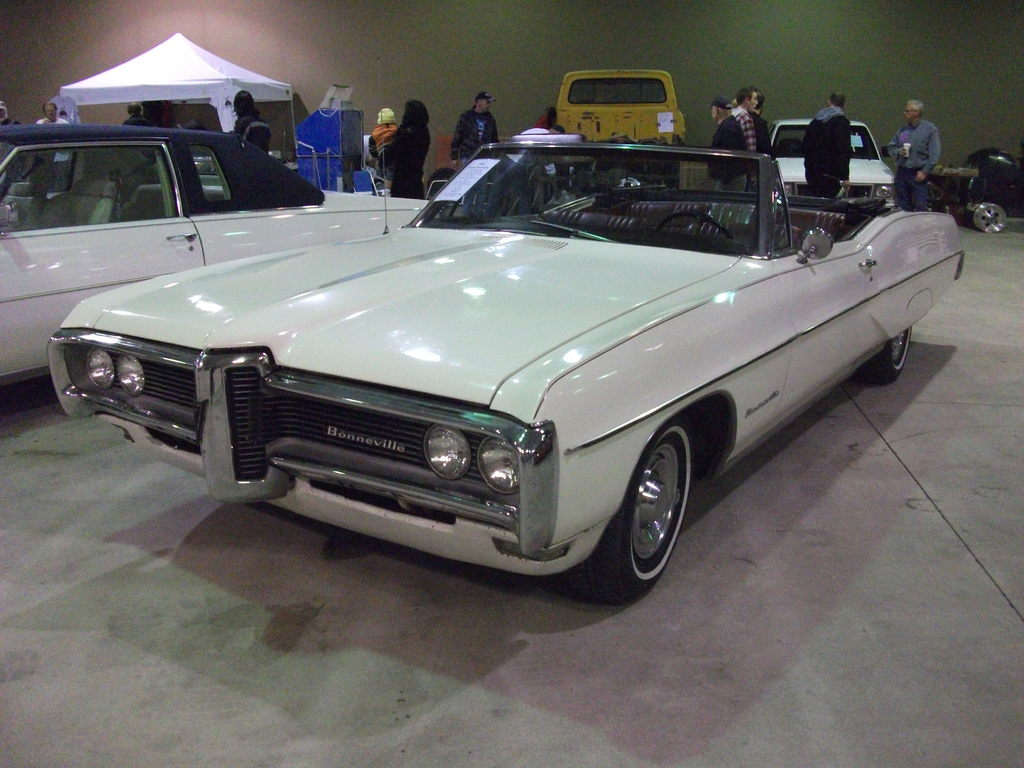Car: (40, 126, 968, 608), (0, 124, 463, 398), (764, 114, 901, 211)
